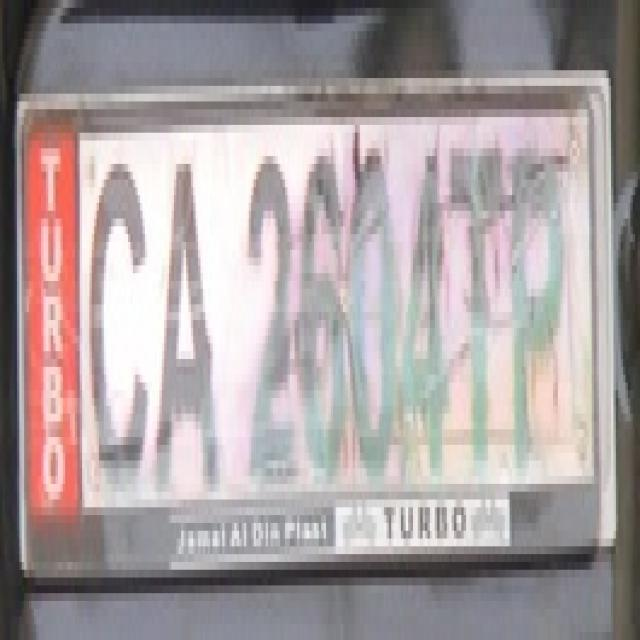licenseplate: (14, 61, 626, 560)
